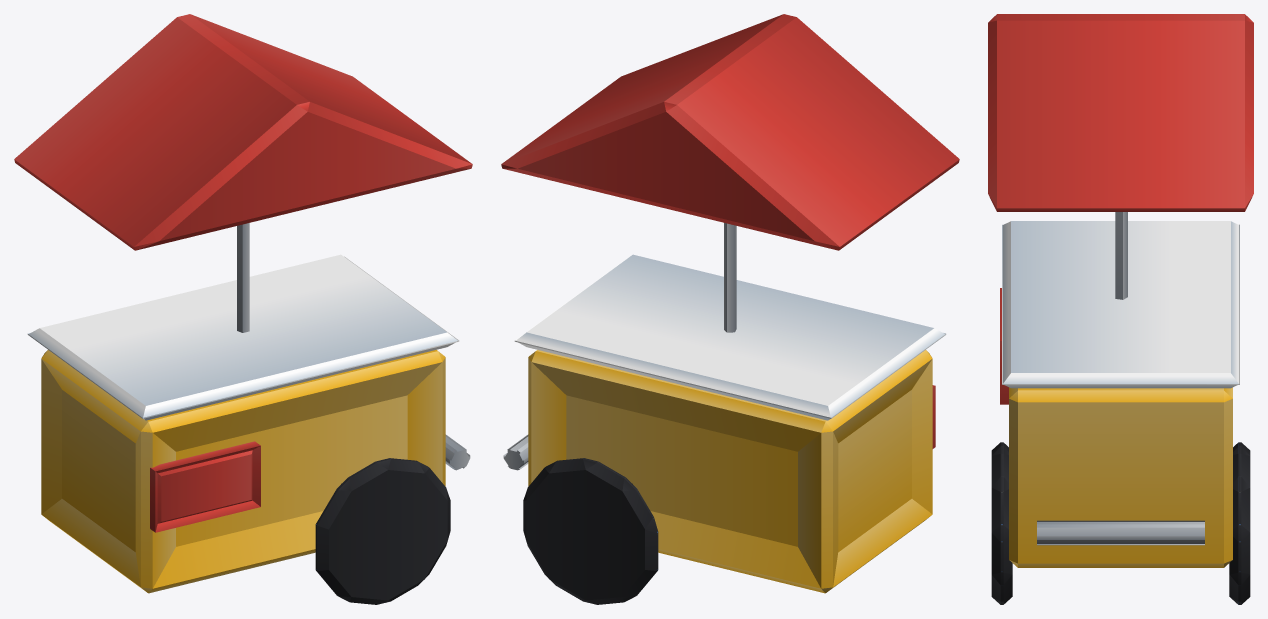
File: dt_hot_dog_cart.fbx
3 renders of one model, left to right at view 1: azimuth 30°, elevation 25°; view 2: azimuth 150°, elevation 25°; view 3: azimuth 270°, elevation 25°, orthographic. The views are drawn at different scales.
Parts seen in each view (by area): view 1: dt_hot_dog_cart; view 2: dt_hot_dog_cart; view 3: dt_hot_dog_cart.
Boxes of the visible parts, left/top/right/bottom form: dt_hot_dog_cart: left=14, top=14, right=472, bottom=604; dt_hot_dog_cart: left=501, top=14, right=959, bottom=604; dt_hot_dog_cart: left=988, top=14, right=1253, bottom=604.
Bounding box in the file's own units: 535 × 750 × 336.
